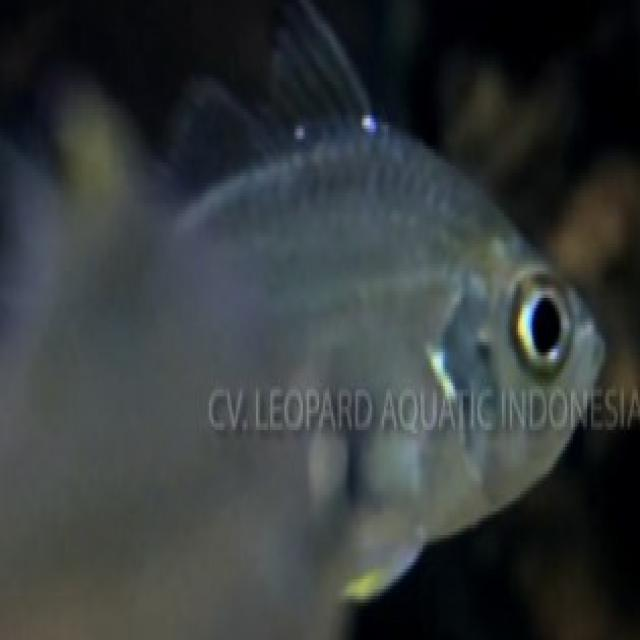Glass-Perchlet: (10, 46, 630, 632)
